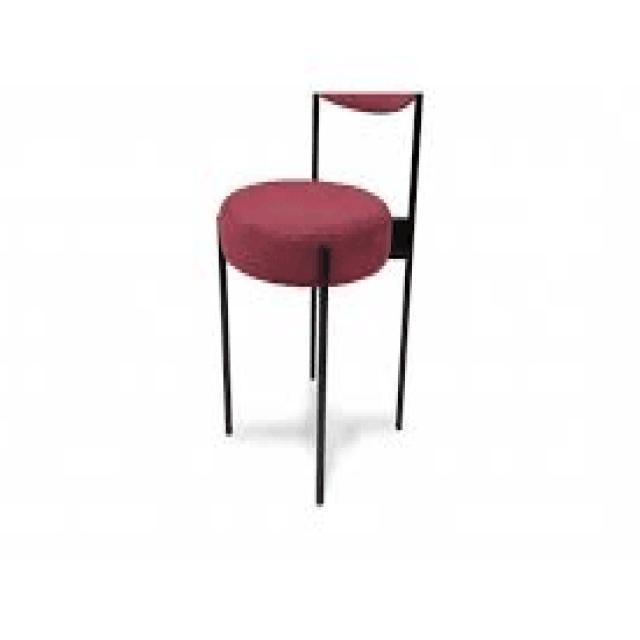chair: (211, 85, 427, 509), (216, 92, 420, 290)
